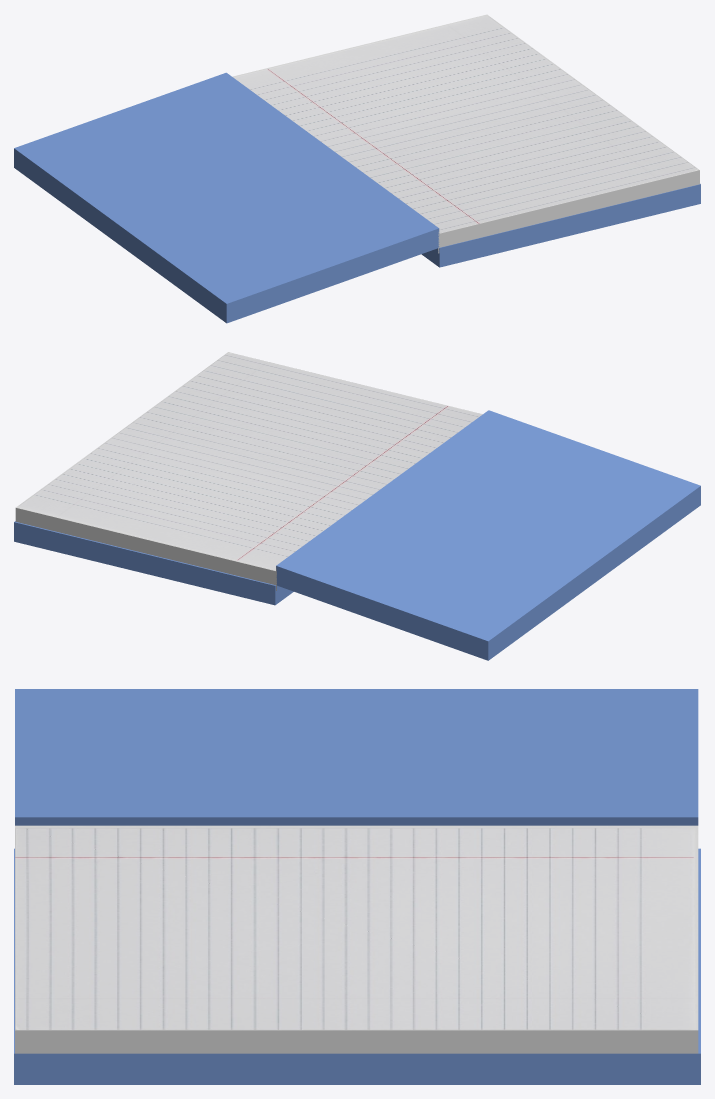
Rendered from booklet.fbx.
The picture shows the model from 3 angles, top to bottom: view 1: azimuth 30°, elevation 25°; view 2: azimuth 150°, elevation 25°; view 3: azimuth 270°, elevation 25°; orthographic projection. The views are drawn at different scales.
Visible parts, largest first — view 1: Cube; view 2: Cube; view 3: Cube.
Part boxes in pixels (x1,y1,x2,y2): Cube: (14, 14, 700, 323); Cube: (14, 352, 700, 660); Cube: (14, 689, 700, 1084).
Bounding box in the file's own units: 19.03 × 1.66 × 14.88.
3 materials, 1 textured.
